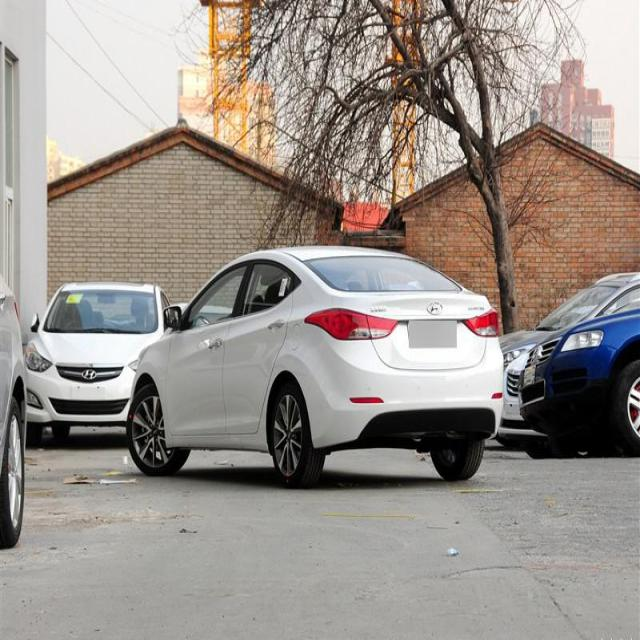back_glass: (302, 256, 462, 294)
back_left_side_light: (303, 306, 398, 340)
back_right_side_light: (461, 307, 499, 338)
door: (225, 259, 296, 435)
front_left_side_door: (164, 260, 253, 438)
front_left_side_mirror: (163, 302, 182, 330)
rear_bumper: (305, 336, 506, 449)
wheel: (128, 388, 186, 473), (274, 386, 322, 481)
